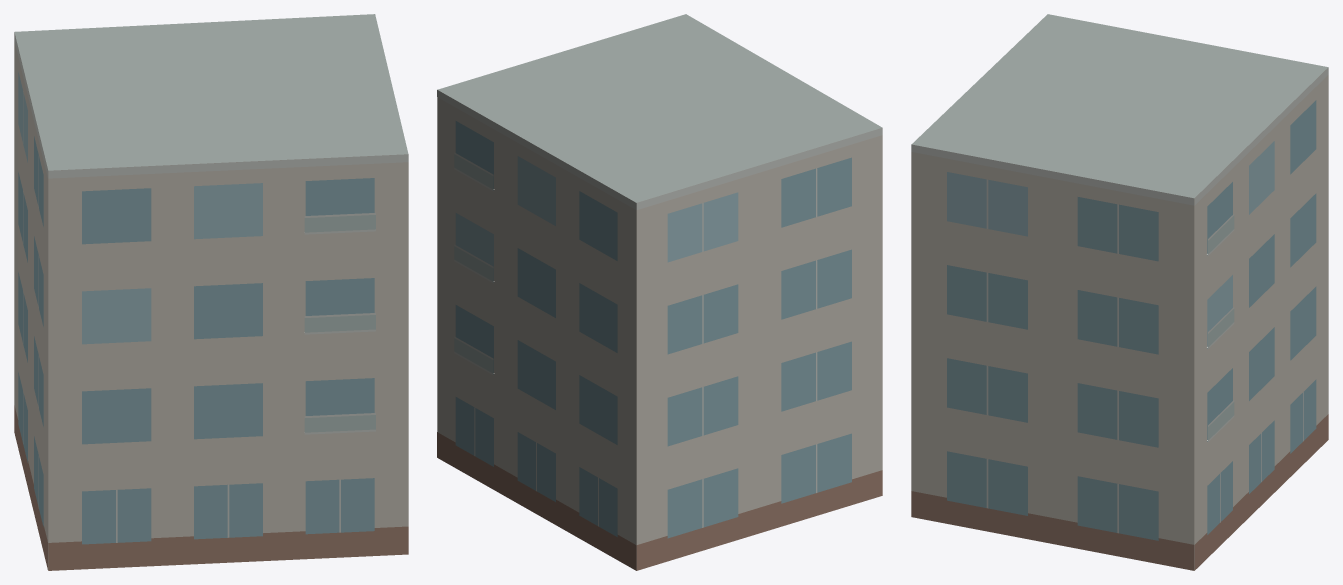
Rendered from survey-upis-32818066.glb.
3 renders of one model, left to right at view 1: azimuth 30°, elevation 25°; view 2: azimuth 150°, elevation 25°; view 3: azimuth 270°, elevation 25°, orthographic. The views are drawn at different scales.
Parts seen in each view (by area): view 1: survey-upis-32818066.tmp; view 2: survey-upis-32818066.tmp; view 3: survey-upis-32818066.tmp.
Boxes of the visible parts, x1,y1,x2,y2 form: survey-upis-32818066.tmp: (14,14,408,570); survey-upis-32818066.tmp: (437,14,882,570); survey-upis-32818066.tmp: (911,14,1328,570).
Size of the model in its own units: 12.95 by 12.2 by 12.39.
